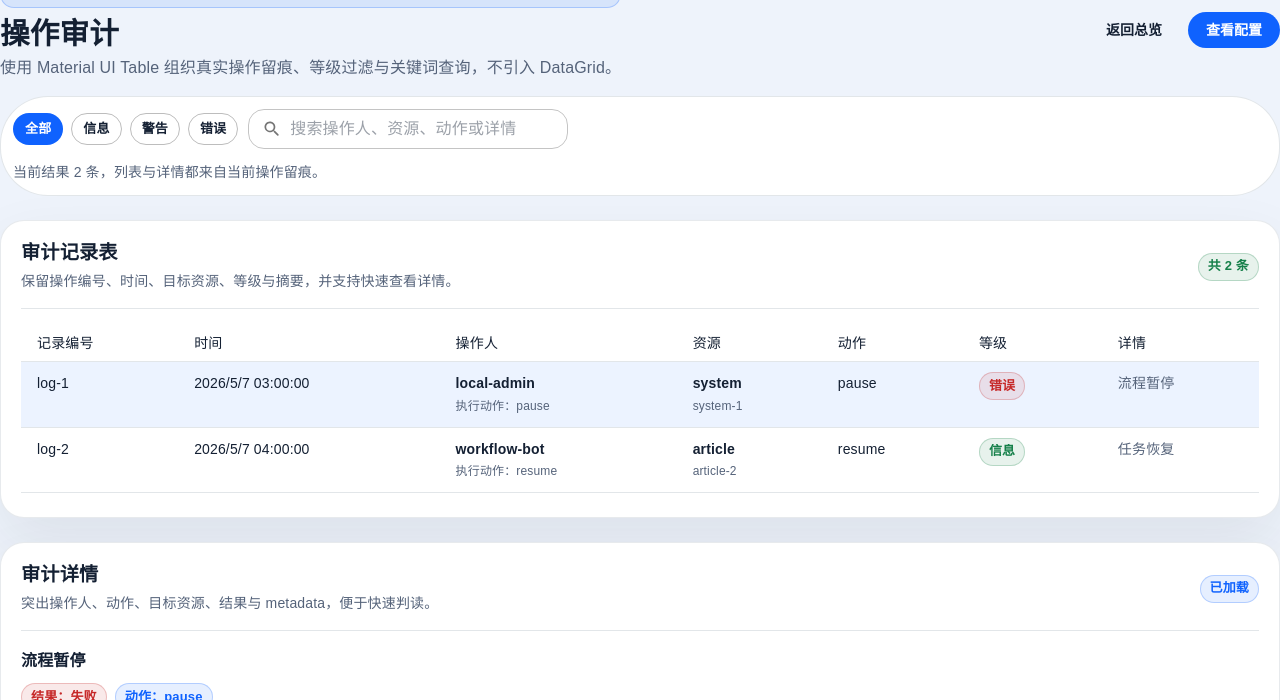
Test: AuditPage › keeps the list visible when detail fetch fails
This screenshot has width=1280, height=700.
Expected: the text "流程暂停" is shown, 1118,375 -> 1174,391
Click the row "log-2".
click(640, 460)  # box 21,427 -> 1259,492
(page scrolled)
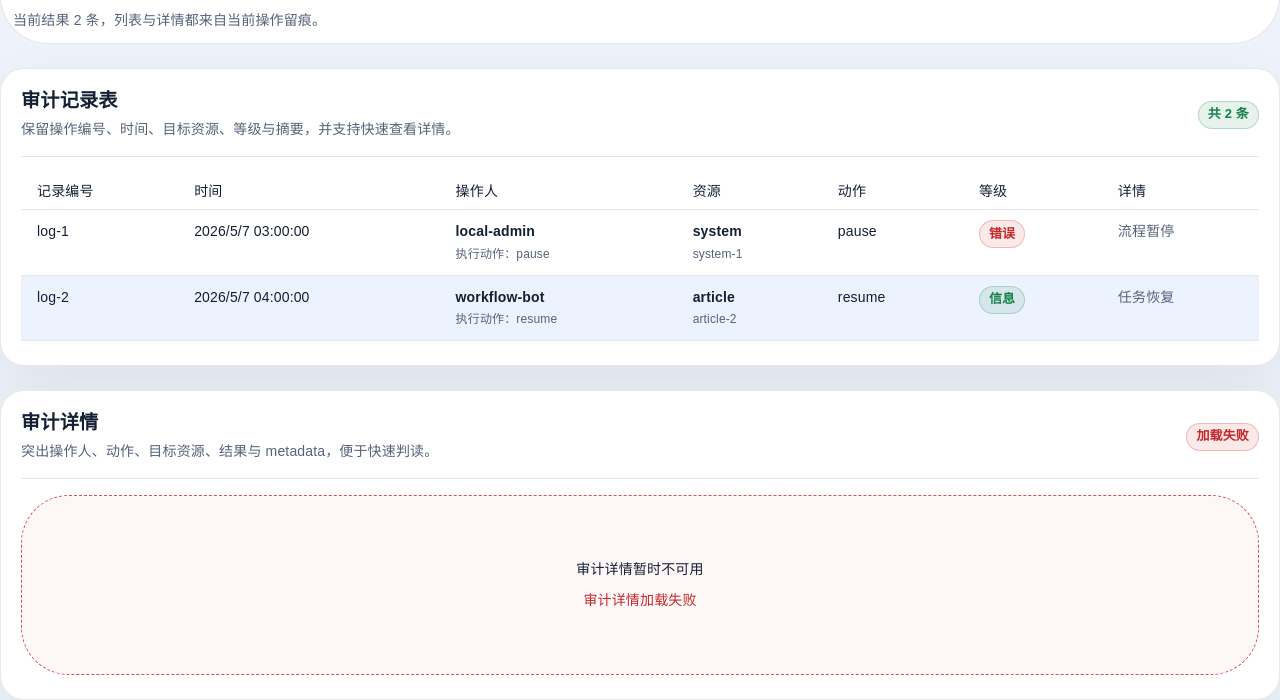
Expected: the element "审计详情" is shown, 0,390 -> 1279,699
Now the text "审计详情加载失败" is shown, box 583,589 -> 697,611
Now the number of messages is 1, box 21,495 -> 1259,675
